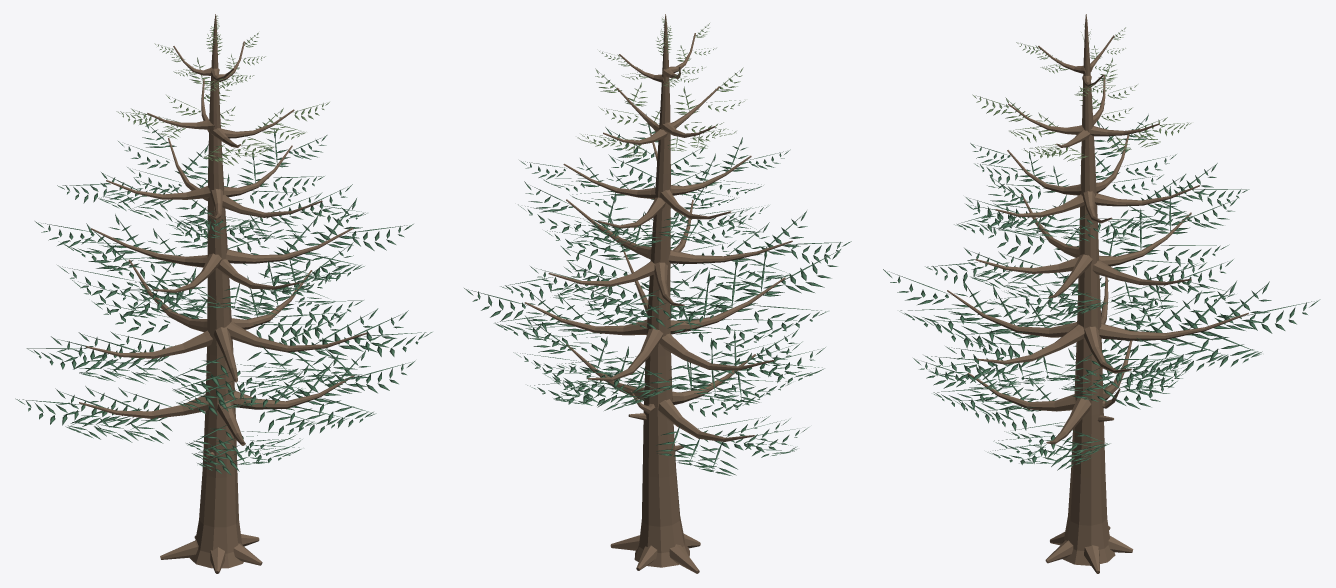
The model's file is conifer-tree.glb.
3 renders of one model, left to right at view 1: azimuth 30°, elevation 25°; view 2: azimuth 150°, elevation 25°; view 3: azimuth 270°, elevation 25°, orthographic.
Visible parts, largest first — view 1: Conifer | clustered narrow needle-bearing shoots, Conifer | editable woody axis boughs and collars; view 2: Conifer | clustered narrow needle-bearing shoots, Conifer | editable woody axis boughs and collars; view 3: Conifer | clustered narrow needle-bearing shoots, Conifer | editable woody axis boughs and collars.
Boxes of the visible parts, left/top/right/bottom form: Conifer | clustered narrow needle-bearing shoots: left=15, top=15, right=432, bottom=475; Conifer | editable woody axis boughs and collars: left=79, top=14, right=367, bottom=573; Conifer | clustered narrow needle-bearing shoots: left=464, top=17, right=851, bottom=475; Conifer | editable woody axis boughs and collars: left=524, top=14, right=792, bottom=573; Conifer | clustered narrow needle-bearing shoots: left=883, top=24, right=1320, bottom=470; Conifer | editable woody axis boughs and collars: left=947, top=14, right=1248, bottom=573.
Bounding box in the file's own units: 4.7 × 7.04 × 5.22.
